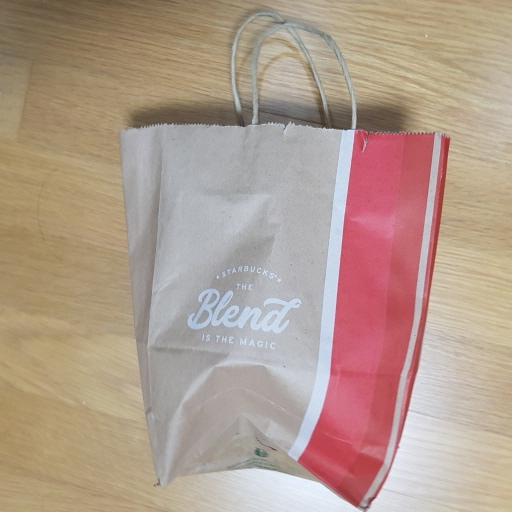Paper_0: (115, 116, 446, 506)
